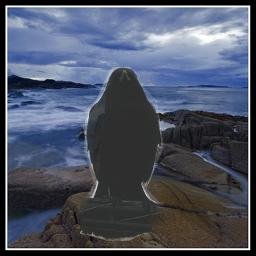Crow: (80, 67, 164, 241)
